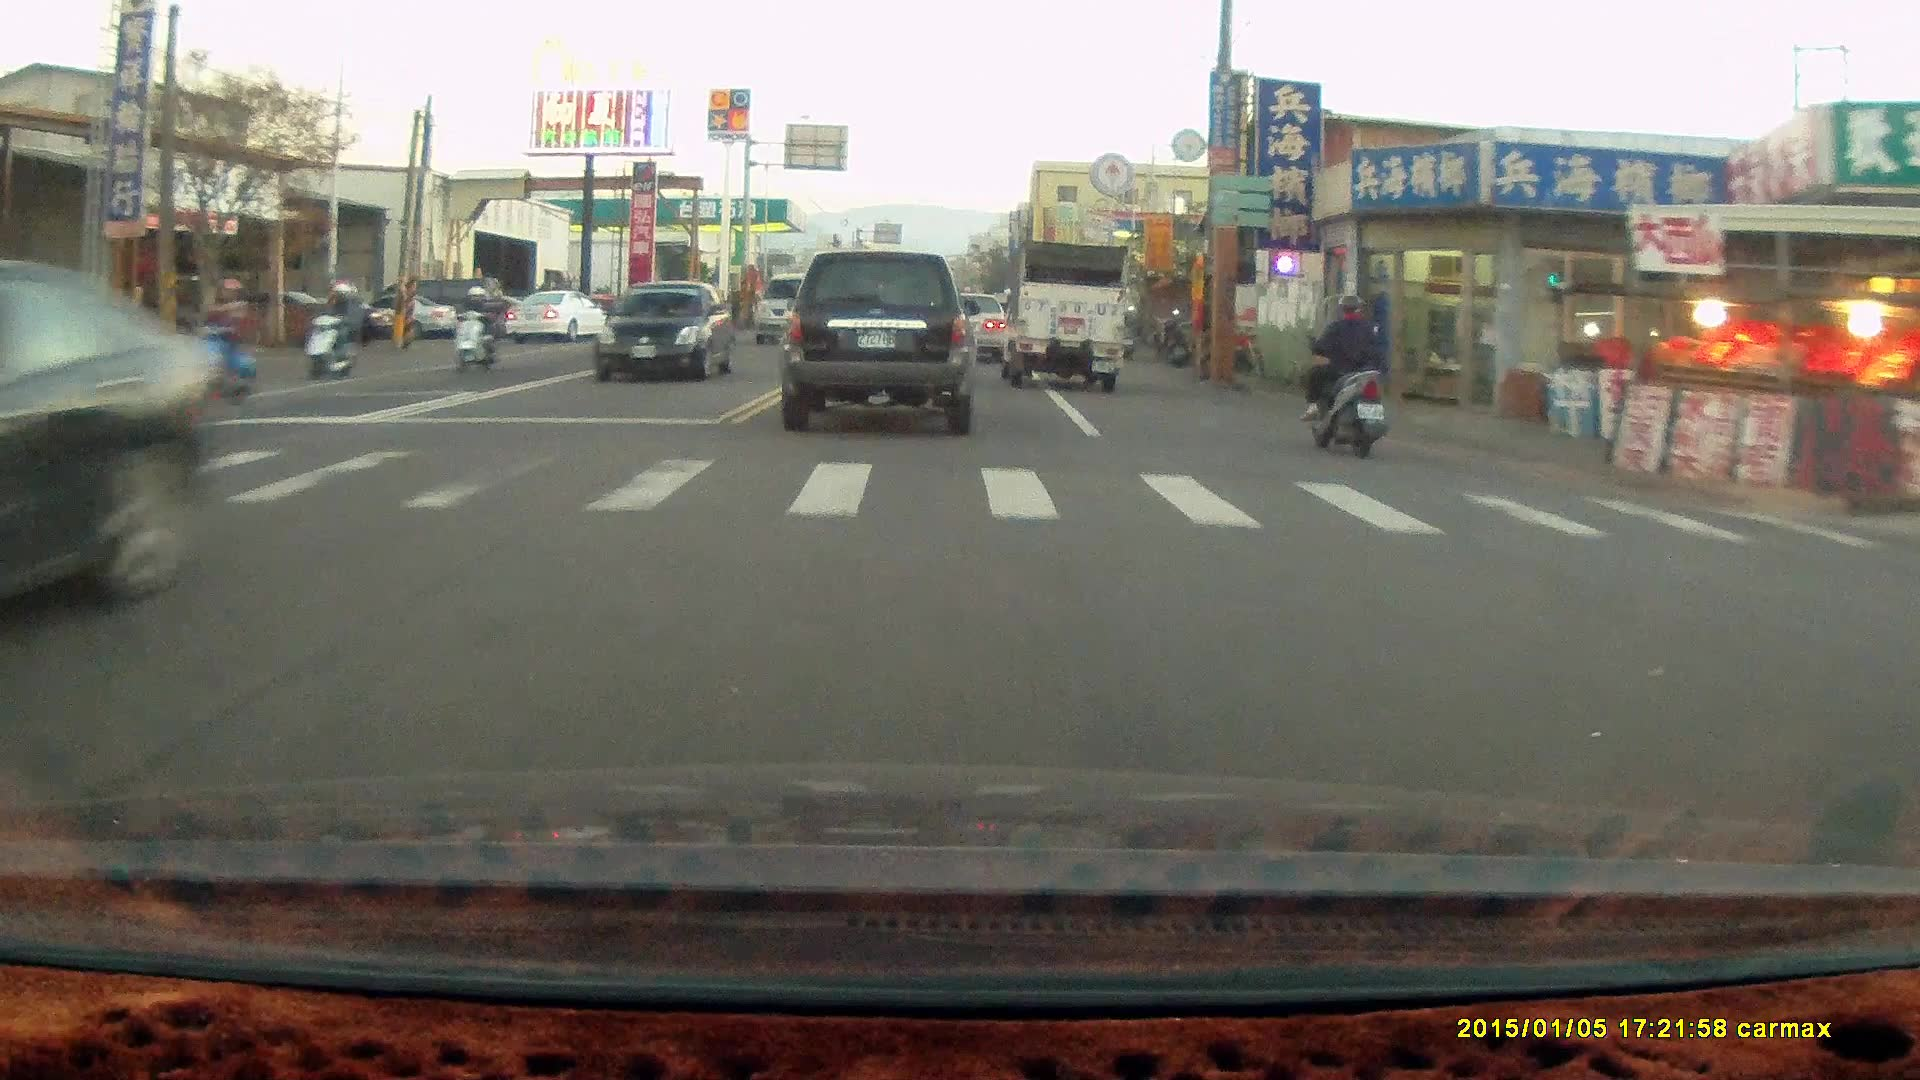rider: (1295, 289, 1387, 454), (179, 271, 256, 403), (298, 280, 365, 381), (453, 283, 502, 371)
vehicle: (1, 268, 227, 637), (774, 251, 983, 436), (996, 241, 1127, 394), (598, 282, 738, 383), (752, 272, 839, 345), (514, 292, 617, 349), (935, 292, 1009, 366)
